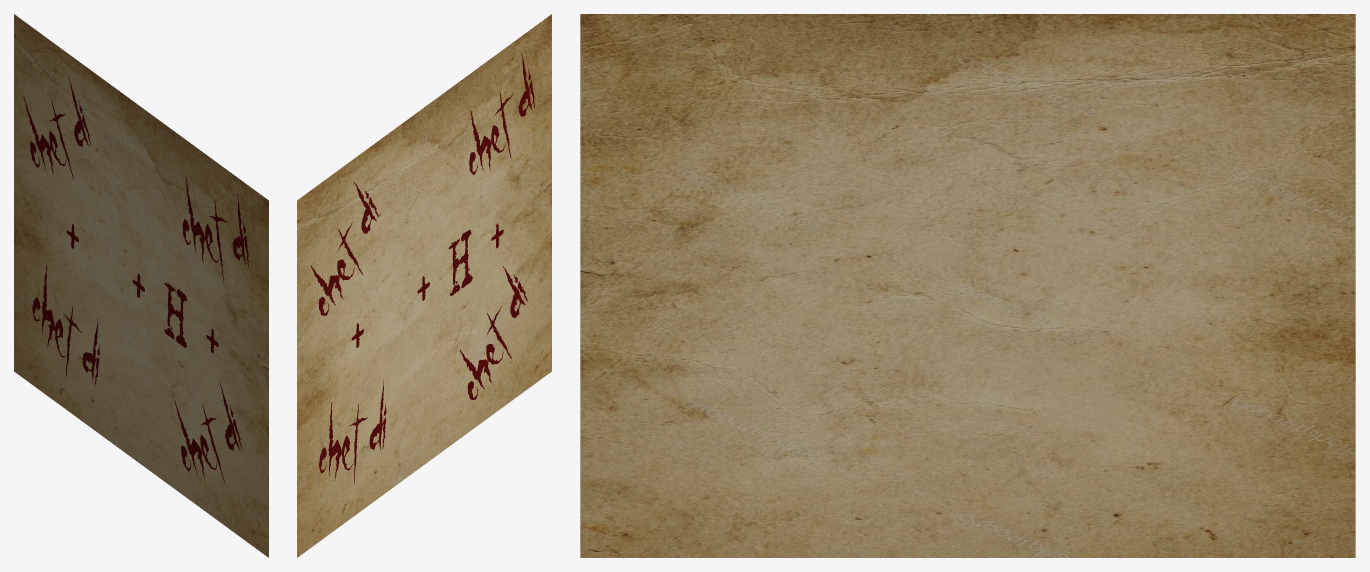
Rendered from Giay123.fbx.
3 renders of one model, left to right at view 1: azimuth 30°, elevation 25°; view 2: azimuth 150°, elevation 25°; view 3: azimuth 270°, elevation 25°, orthographic. The views are drawn at different scales.
Parts seen in each view (by area): view 1: Plane, Text.003, Text.004, Text.001, Text.002, Text; view 2: Plane, Text.001, Text.002, Text.003, Text.004, Text; view 3: Plane.
Boxes of the visible parts, left/top/right/bottom form: Plane: left=14, top=14, right=268, bottom=557; Text.003: left=23, top=77, right=91, bottom=180; Text.004: left=174, top=381, right=242, bottom=483; Text.001: left=32, top=265, right=99, bottom=384; Text.002: left=182, top=177, right=248, bottom=281; Text: left=66, top=224, right=218, bottom=353; Plane: left=297, top=14, right=551, bottom=557; Text.001: left=319, top=380, right=386, bottom=484; Text.002: left=469, top=53, right=534, bottom=174; Text.003: left=311, top=182, right=378, bottom=315; Text.004: left=460, top=266, right=527, bottom=399; Text: left=351, top=223, right=503, bottom=347; Plane: left=580, top=14, right=1355, bottom=557.
Size of the model in its own units: 0.1981 by 21.6 by 27.9.
